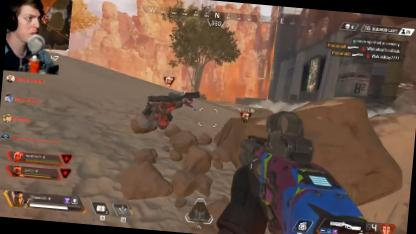Target: (142, 84, 198, 126)
